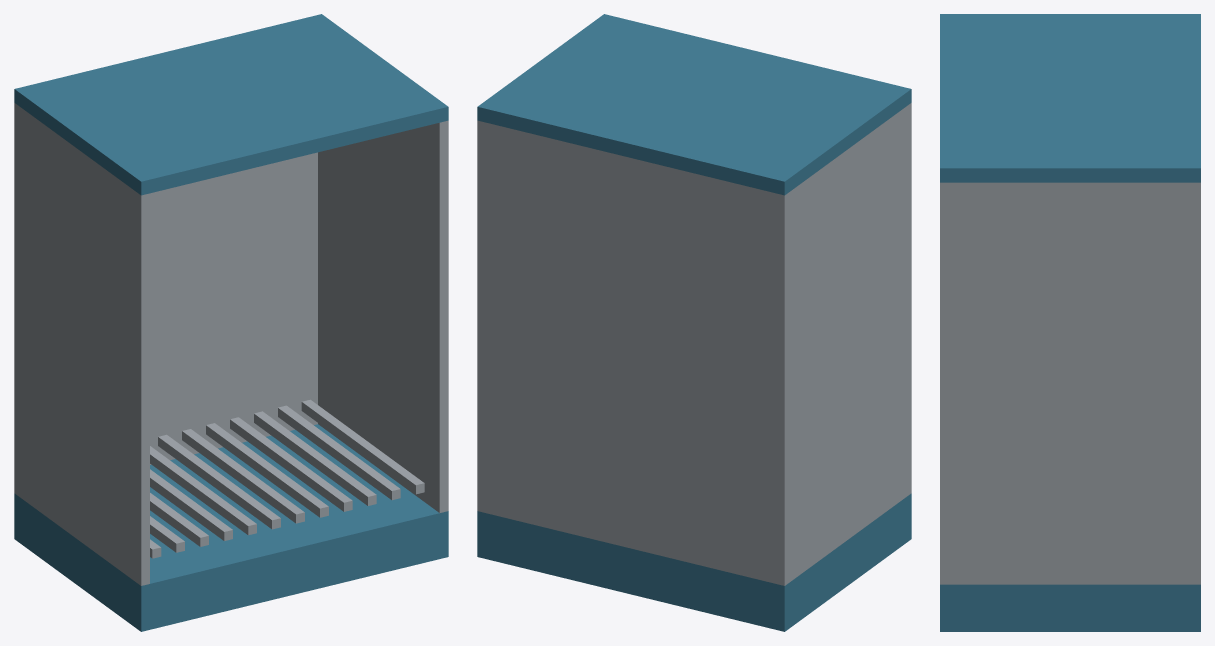
The picture shows the model from 3 angles, left to right: view 1: azimuth 30°, elevation 25°; view 2: azimuth 150°, elevation 25°; view 3: azimuth 270°, elevation 25°; orthographic projection. The views are drawn at different scales.
Visible parts, largest first — view 1: side0, top, back, side1, sump, grate11, grate10, grate5, grate7, grate8, grate6, grate9 (+4 smaller); view 2: back, side0, top, sump, side1; view 3: side1, top, sump.
Boxes of the visible parts, x1,y1,x2,y2 form: side0: (14,103,149,585); top: (14,14,448,195); back: (150,152,317,464); side1: (318,120,448,512); sump: (14,424,448,631); grate11: (301,399,424,494); grate10: (278,405,400,500); grate5: (158,434,280,529); grate7: (206,423,328,517); grate8: (230,417,352,511); grate6: (182,429,304,523); grate9: (254,411,376,505); back: (486,123,775,583); side0: (776,103,911,585); top: (477,14,911,195); sump: (477,493,911,631); side1: (477,120,486,512); side1: (940,182,1200,584); top: (940,14,1200,182); sump: (940,584,1200,631).
Bounding box in the file's own units: 1.4 × 1.96 × 1.
